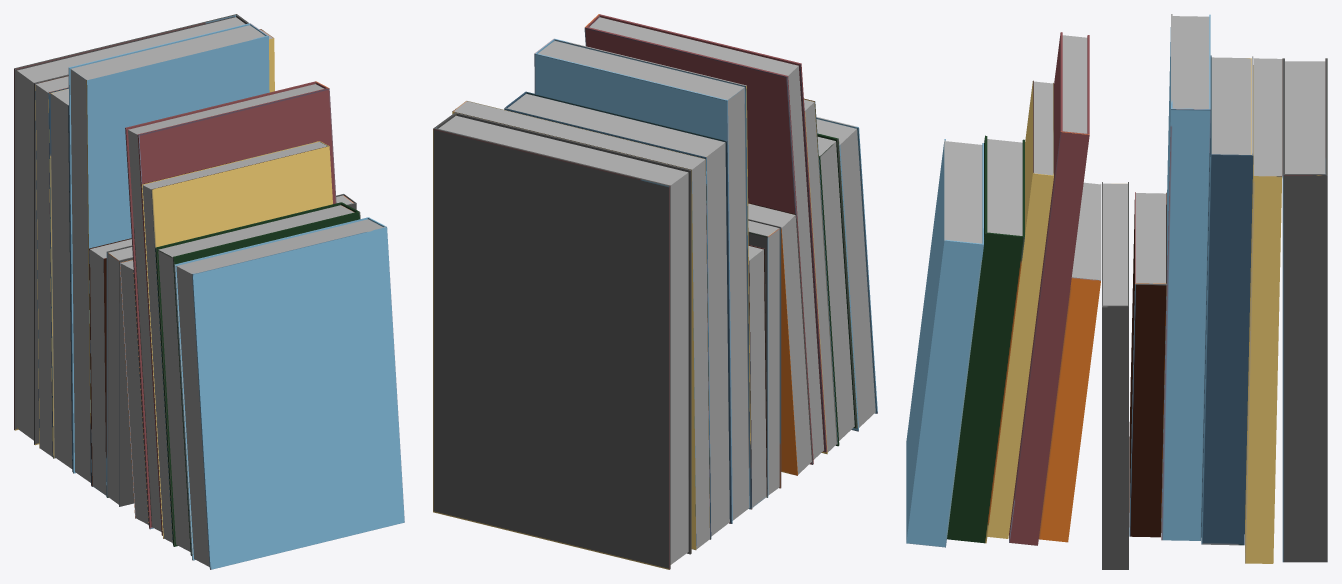
File: books1.fbx
The picture shows the model from 3 angles, left to right: view 1: azimuth 30°, elevation 25°; view 2: azimuth 150°, elevation 25°; view 3: azimuth 270°, elevation 25°; orthographic projection. The views are drawn at different scales.
Parts seen in each view (by area): view 1: Book0.006; view 2: Book0.006; view 3: Book0.006.
Boxes of the visible parts, x1=… form: Book0.006: x1=14, y1=14, x2=404, y2=569; Book0.006: x1=433, y1=14, x2=877, y2=569; Book0.006: x1=906, y1=14, x2=1327, y2=569.
Bounding box in the file's own units: 17.51 × 28.45 × 25.14.
